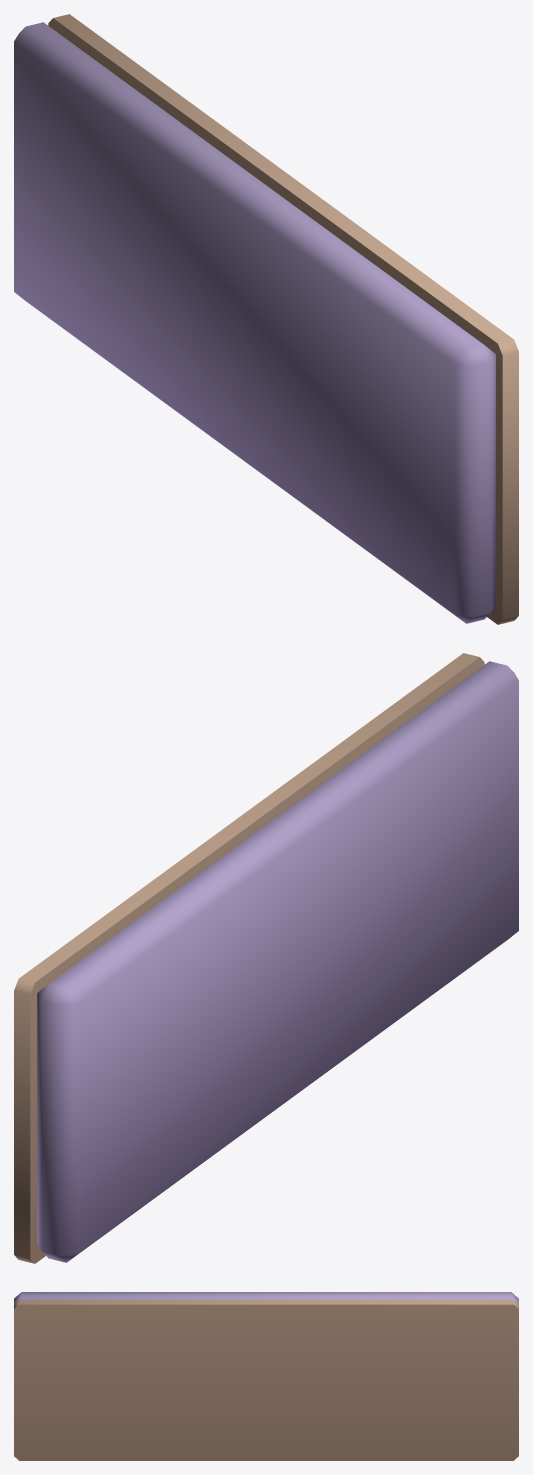
The model's file is bed-backboard-padding-wide.glb.
3 renders of one model, top to bottom at view 1: azimuth 30°, elevation 25°; view 2: azimuth 150°, elevation 25°; view 3: azimuth 270°, elevation 25°, orthographic. The views are drawn at different scales.
Parts seen in each view (by area): view 1: bed-backboard-padding-wide; view 2: bed-backboard-padding-wide; view 3: bed-backboard-padding-wide.
Part boxes in pixels (x1=…): bed-backboard-padding-wide: x1=14, y1=14, x2=518, y2=624; bed-backboard-padding-wide: x1=14, y1=653, x2=518, y2=1263; bed-backboard-padding-wide: x1=14, y1=1292, x2=518, y2=1460.
Bounding box in the file's own units: 0.175 × 0.82 × 2.4.
